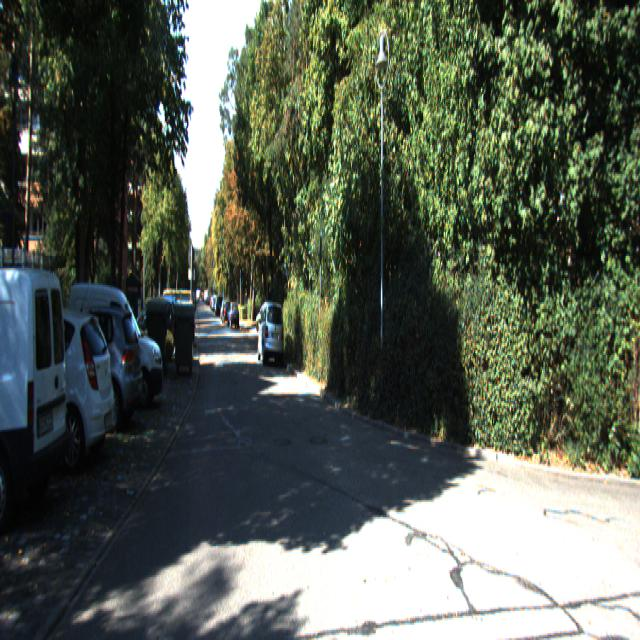Car: (0, 309, 118, 484), (0, 263, 71, 534), (26, 309, 144, 445), (68, 288, 164, 419), (257, 300, 285, 369)
